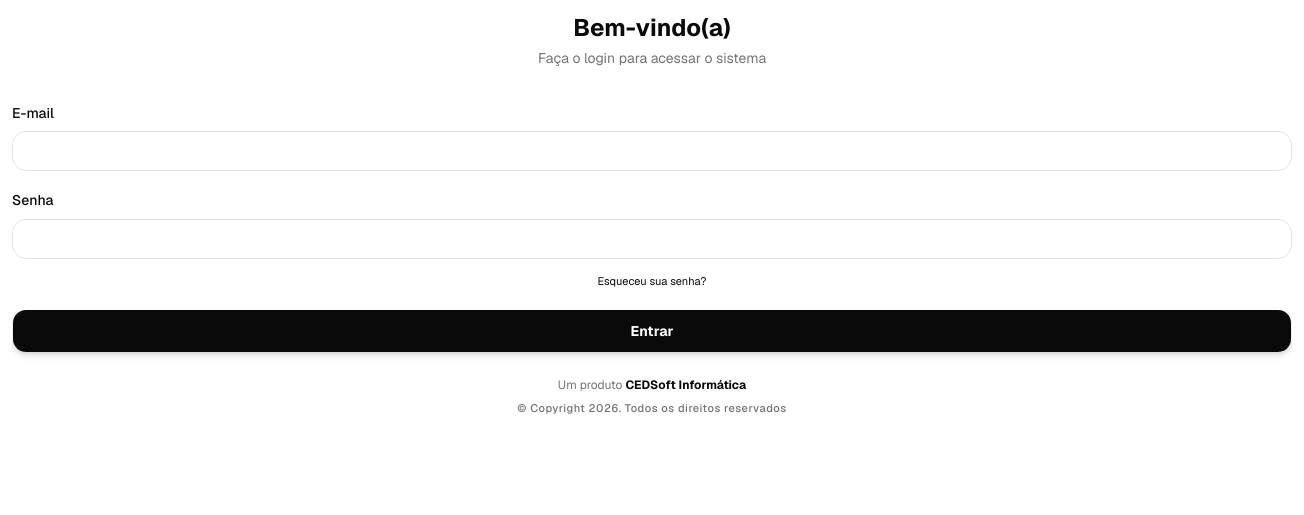
Component: LoginForm › should show error message when login fails
Type "wrong@example.com" into the field labelled "E-mail" at (652, 151), box x1=12 y1=131 x2=1292 y2=171
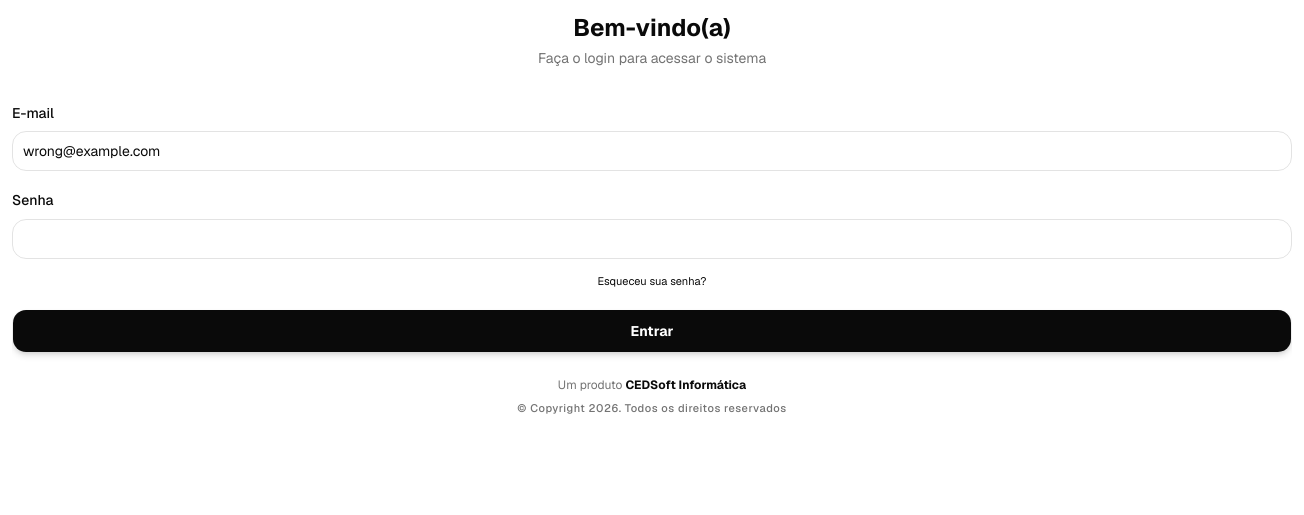
Type "wrongpass" into the password field labelled "Senha" at (652, 238), box x1=12 y1=218 x2=1292 y2=258
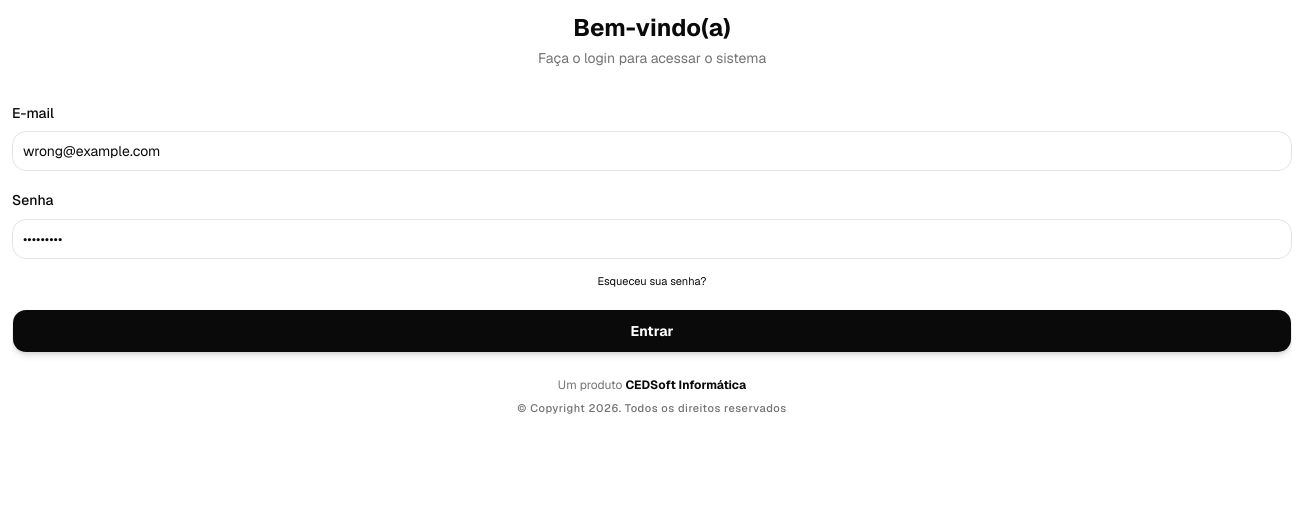
Click the button "Entrar" at (652, 331), box x1=12 y1=309 x2=1292 y2=353
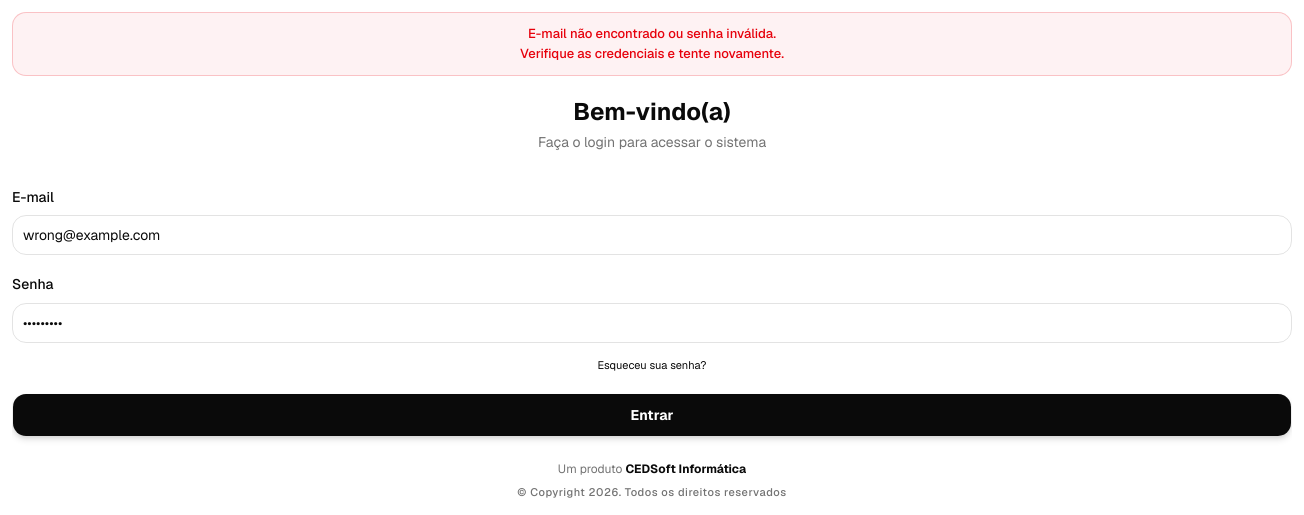
Now the text "E-mail não encontrado ou senha inválida." is shown, box x1=520 y1=26 x2=784 y2=42
